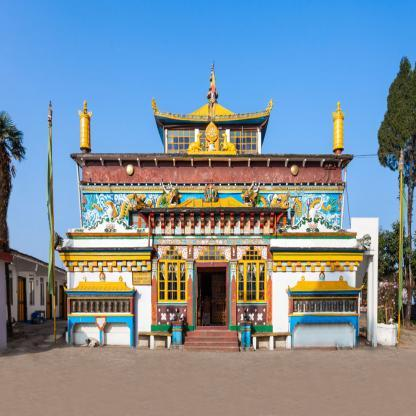Building Outline: (54, 63, 372, 351)
Deco: (286, 272, 364, 348), (63, 272, 137, 347), (186, 121, 238, 155), (78, 99, 93, 153), (332, 101, 345, 154), (207, 63, 219, 104), (241, 308, 252, 347), (172, 307, 183, 345), (363, 234, 372, 250)
Dont: (211, 60, 216, 113), (80, 337, 98, 347)
Door: (197, 267, 226, 326)
Facade: (82, 153, 342, 346)
Floor: (82, 170, 342, 239)
Floor Slab: (58, 240, 363, 246), (82, 164, 342, 170)
Ground Floor: (67, 246, 355, 347)
Molding: (137, 208, 286, 234), (56, 247, 155, 272), (80, 185, 345, 194), (270, 247, 364, 272), (65, 232, 357, 239)
Roof: (152, 97, 273, 147)
Top Floor: (163, 124, 261, 164)
Window: (237, 245, 267, 302), (158, 245, 187, 302), (230, 129, 257, 153), (168, 129, 195, 153), (199, 129, 226, 153), (199, 245, 225, 263), (275, 210, 295, 229), (129, 210, 149, 229)
